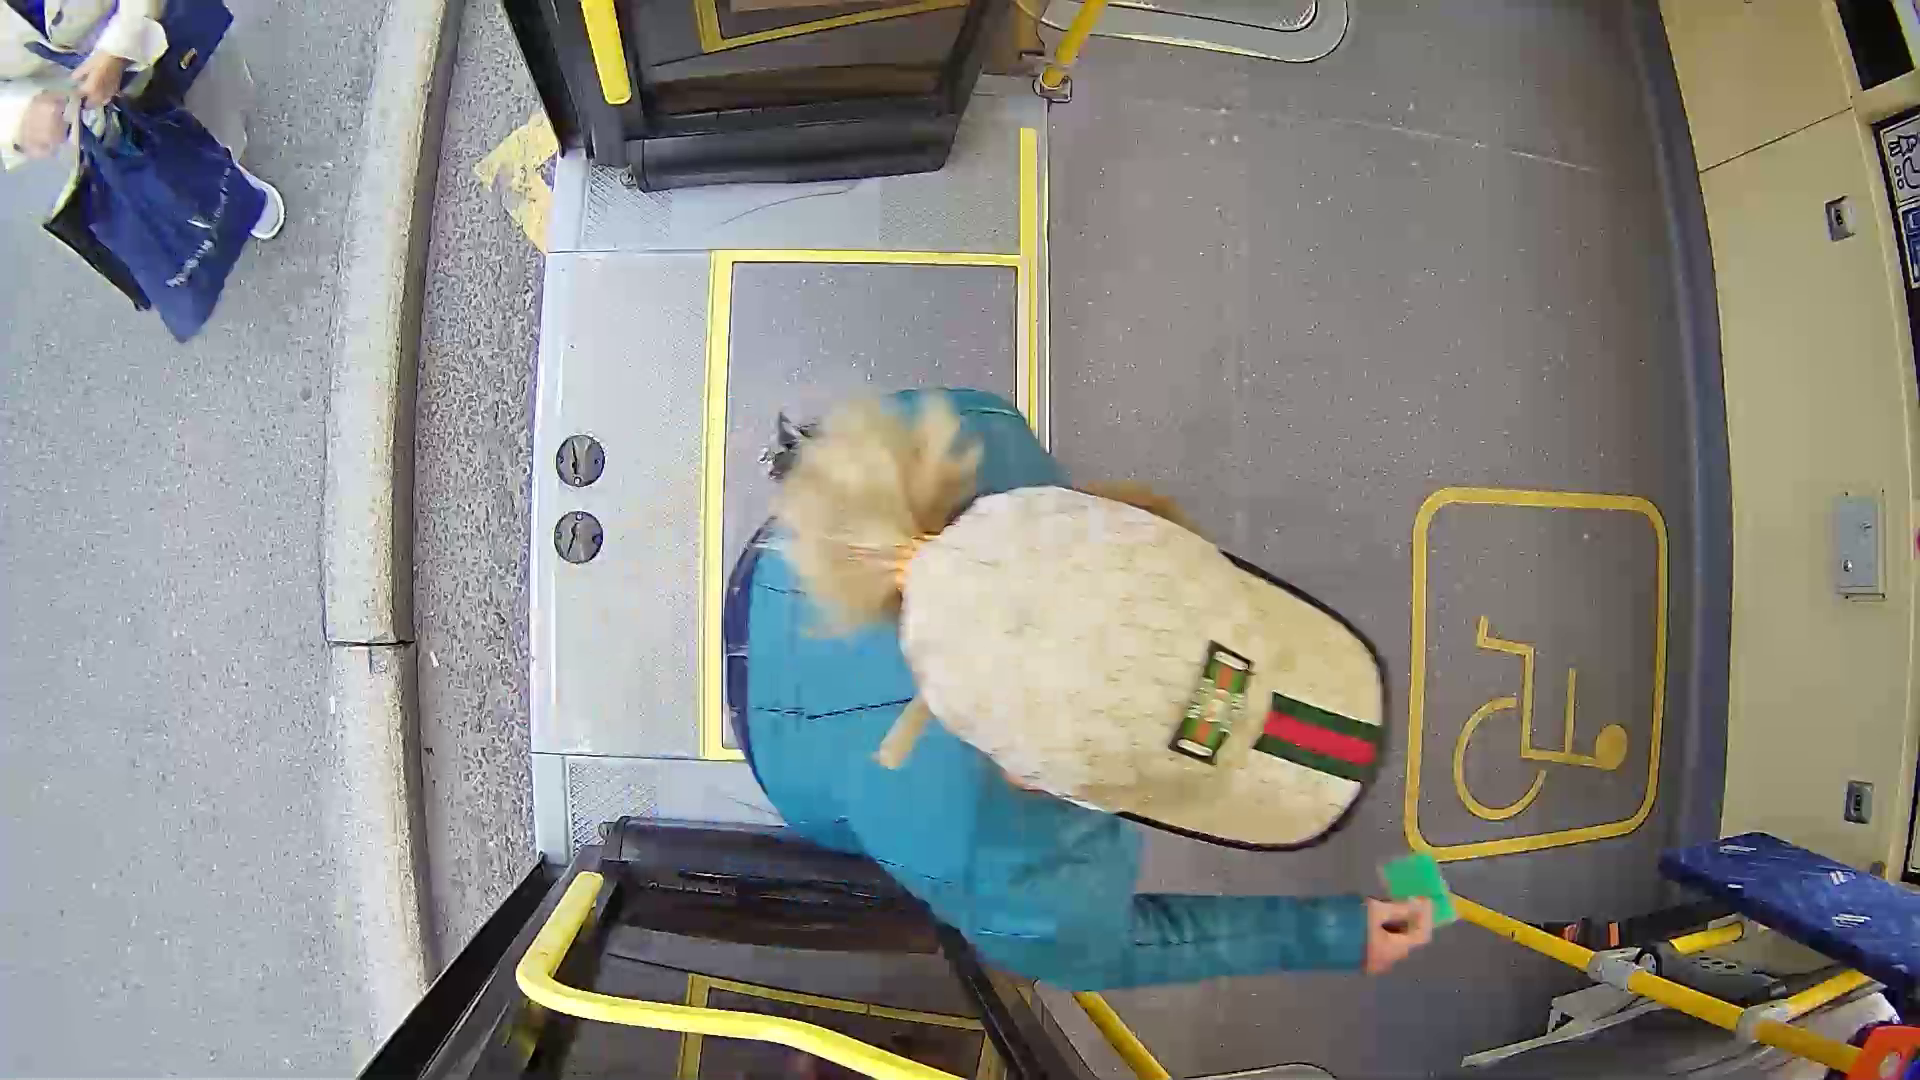person: (692, 379, 1546, 1020)
